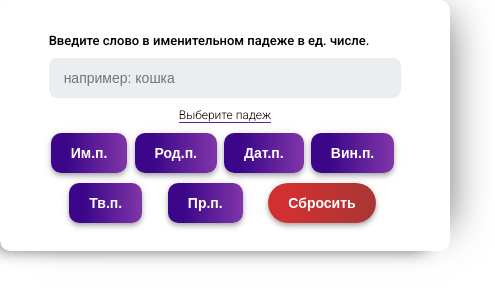
Form › should clean input when user click reset button
This screenshot has width=495, height=293.
Type "test" into the field at (225, 78), box [49,58,401,98]
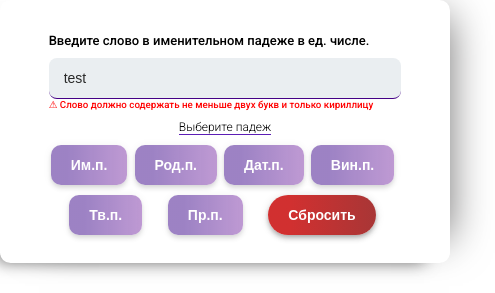
Click the button "Сбросить" at (322, 215), box [268,195,376,235]
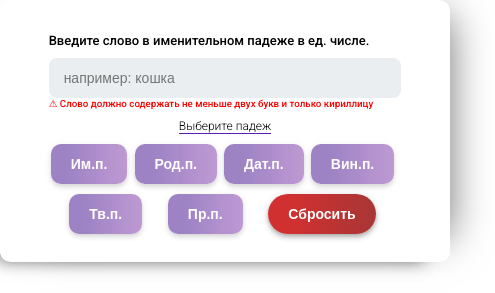
Result: the field is empty at [49,58,401,98]
